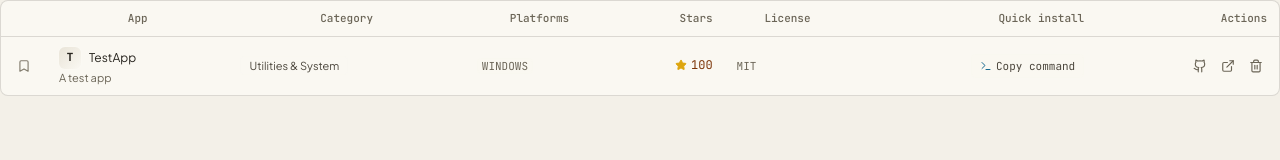
Test case: table view: deleting a custom app requires the same confirm as the cards › the trash button opens an inline confirm instead of deleting immediately
What coordinates should you click on to do the following:
click the button named "Delete TestApp"
I would click on:
 (1256, 66)
Its box is [1245,55,1267,77].
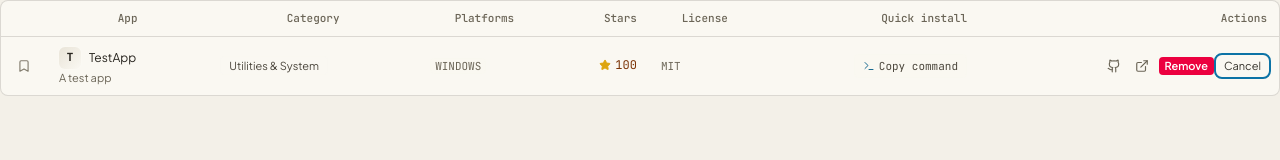
Expected: the button with aria-label "Remove: TestApp" is shown, [1158,57,1214,75]
Expected: the button "Cancel" is shown, [1218,57,1267,75]
